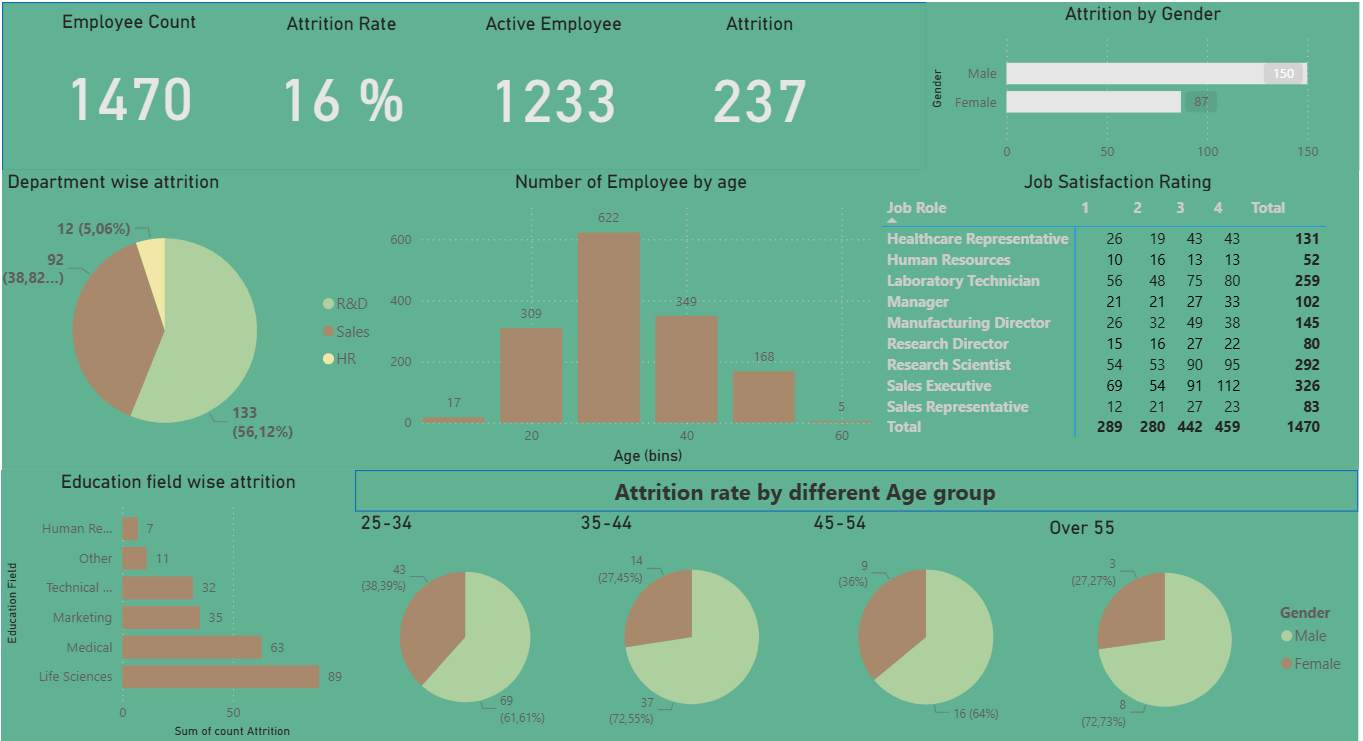

What the dashboard file says about the page in this screenshot:
{"tool":"powerbi","page":{"name":"Page 1","canvas":[1280,720],"ordinal":0},"visuals":[{"type":"shape","box":[31.7,25.4,838.8,153.2],"z":0},{"type":"card","title":"Employee Count","fields":{"Values":["Sum(HR data.Employee Count)"]},"box":[47.5,32.9,199.7,127.9],"z":1000},{"type":"card","title":"Attrition","fields":{"Values":["Sum(HR data.count Attrition)"]},"box":[617.5,34.5,202.2,127.9],"z":2000},{"type":"card","title":"Active Employee","fields":{"Values":["HR data.Active Employees"]},"box":[431.1,34.1,202.2,127.9],"z":3000},{"type":"pieChart","title":"Department wise attrition","fields":{"Category":["HR data.Department"],"Y":["Sum(HR data.count Attrition)"]},"box":[31.7,177.7,347.3,272],"z":4000},{"type":"card","title":"Attrition Rate","fields":{"Values":["HR data.Attrition Rate"]},"box":[247.2,34.1,183.9,126.7],"z":5000},{"type":"clusteredColumnChart","title":"Number of Employee by age","fields":{"Category":["HR data.Age (bins)"],"Y":["Sum(HR data.Employee Count)"]},"box":[378.1,177.7,448,272],"z":6000},{"type":"pivotTable","title":"Job Satisfaction Rating","fields":{"Rows":["HR data.Job Role"],"Columns":["HR data.Job Satisfaction"],"Values":["Sum(HR data.Employee Count)"]},"box":[824.5,177.8,438.4,271.6],"z":7000},{"type":"clusteredBarChart","title":"Attrition by Gender","fields":{"Category":["HR data.Gender"],"Y":["Sum(HR data.count Attrition)"]},"box":[869.6,25.6,393.4,153.5],"z":8000},{"type":"clusteredBarChart","title":"Education field wise attrition","fields":{"Category":["HR data.Education Field"],"Y":["Sum(HR data.count Attrition)"]},"box":[30.4,449.4,321.5,247.2],"z":9000},{"type":"pieChart","title":"25-34","fields":{"Y":["Sum(HR data.count Attrition)"],"Category":["HR data.Gender"]},"box":[352,487.2,199.7,209.5],"z":10000},{"type":"pieChart","title":"35-44","fields":{"Y":["Sum(HR data.count Attrition)"],"Category":["HR data.Gender"]},"box":[551.7,487.2,211.9,209.5],"z":11000},{"type":"pieChart","title":"45-54","fields":{"Y":["Sum(HR data.count Attrition)"],"Category":["HR data.Gender"]},"box":[762.6,487,214,209.5],"z":12000},{"type":"pieChart","title":"Over 55","fields":{"Y":["Sum(HR data.count Attrition)"],"Category":["HR data.Gender"]},"box":[976.7,487.2,285,209.5],"z":13000},{"type":"shape","box":[352,449.4,909.8,37.8],"z":14000},{"type":"textbox","box":[582.2,449.4,364.1,52.4],"z":15000}]}

Visuals, with their boxes on the page's 1280x720 design canvas (x1, y1, x2, y2). These are canvas units, not pixel positions in the 1363x741 screenshot, which may show the page scaled, cropped or inside an application window:
shape: Rect(32, 25, 870, 179)
"Employee Count" card: Rect(48, 33, 247, 161)
"Attrition" card: Rect(618, 34, 820, 162)
"Active Employee" card: Rect(431, 34, 633, 162)
"Department wise attrition" pieChart: Rect(32, 178, 379, 450)
"Attrition Rate" card: Rect(247, 34, 431, 161)
"Number of Employee by age" clusteredColumnChart: Rect(378, 178, 826, 450)
"Job Satisfaction Rating" pivotTable: Rect(824, 178, 1263, 449)
"Attrition by Gender" clusteredBarChart: Rect(870, 26, 1263, 179)
"Education field wise attrition" clusteredBarChart: Rect(30, 449, 352, 697)
"25-34" pieChart: Rect(352, 487, 552, 697)
"35-44" pieChart: Rect(552, 487, 764, 697)
"45-54" pieChart: Rect(763, 487, 977, 696)
"Over 55" pieChart: Rect(977, 487, 1262, 697)
shape: Rect(352, 449, 1262, 487)
textbox: Rect(582, 449, 946, 502)
